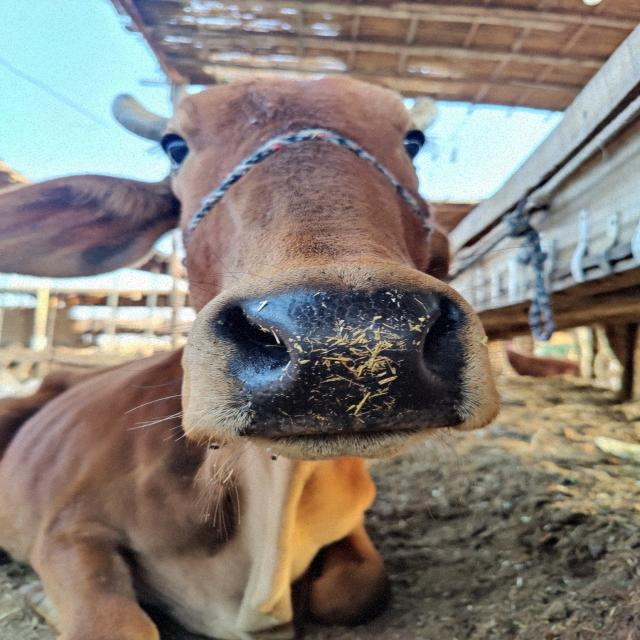muzzles: (200, 277, 498, 439)
